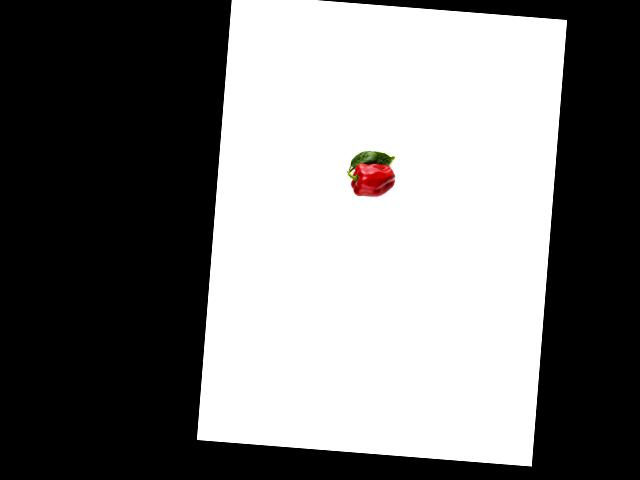bell_pepper: (345, 159, 397, 202)
